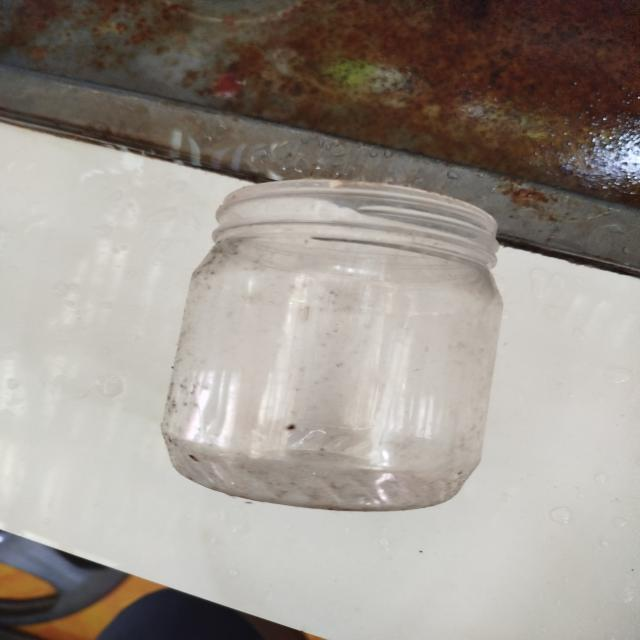plastic: (149, 171, 522, 521)
